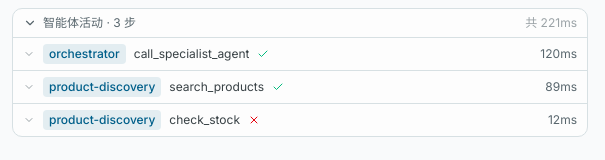
Test: AgentTimeline › 点击后折叠以隐藏步骤行
The width and height of the screenshot is (605, 160).
Click the button "智能体活动 · 3 步 共 221ms": (78, 22) [13,9,587,37]
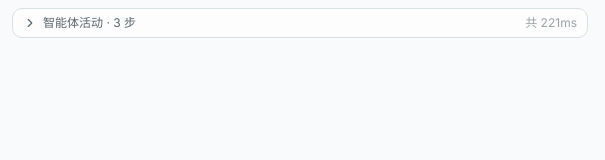
Check: the button "search_products" is gone
